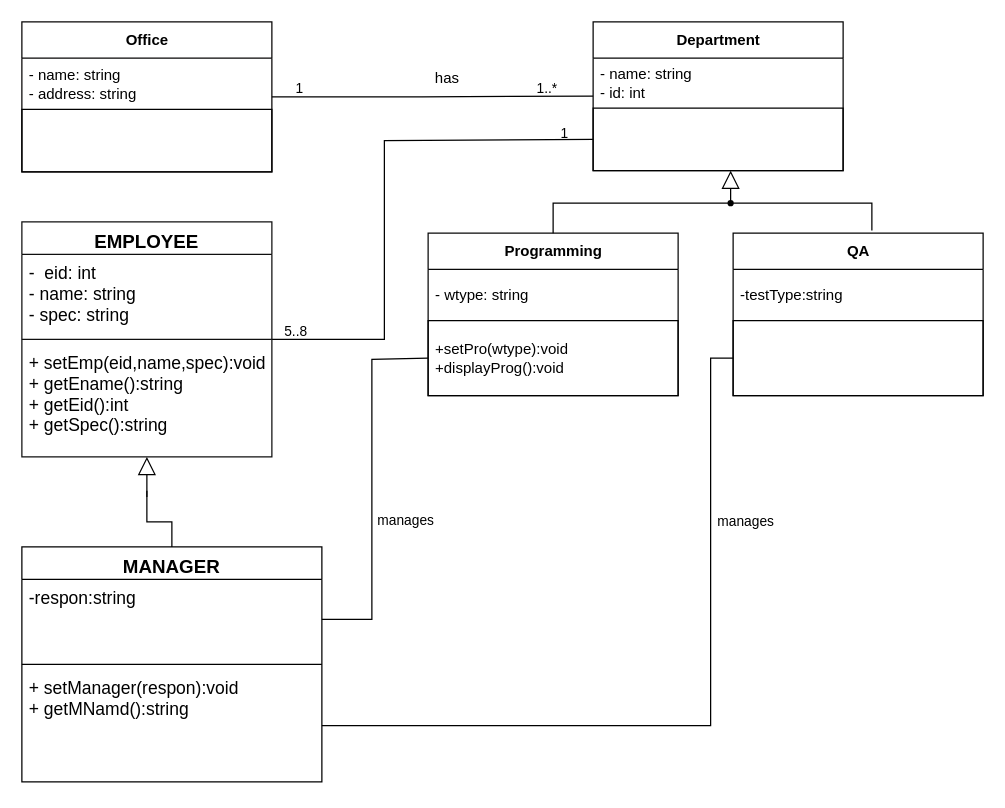
The diagram is 1005 pixels wide and 808 high, and some of its shapes have lost their labels. The shapes that lost their labels are listed below. From the top down, each one's centre as x and y in pixels, then its label:
At pixel 146 140: "+setOffice(name,address): void +getName():string +getAddress():string".
At pixel 717 139: "+setDep(name,id): void +getDName():string +getDid():id".
At pixel 857 357: "+setPro(testType):void +displayProg():void".
